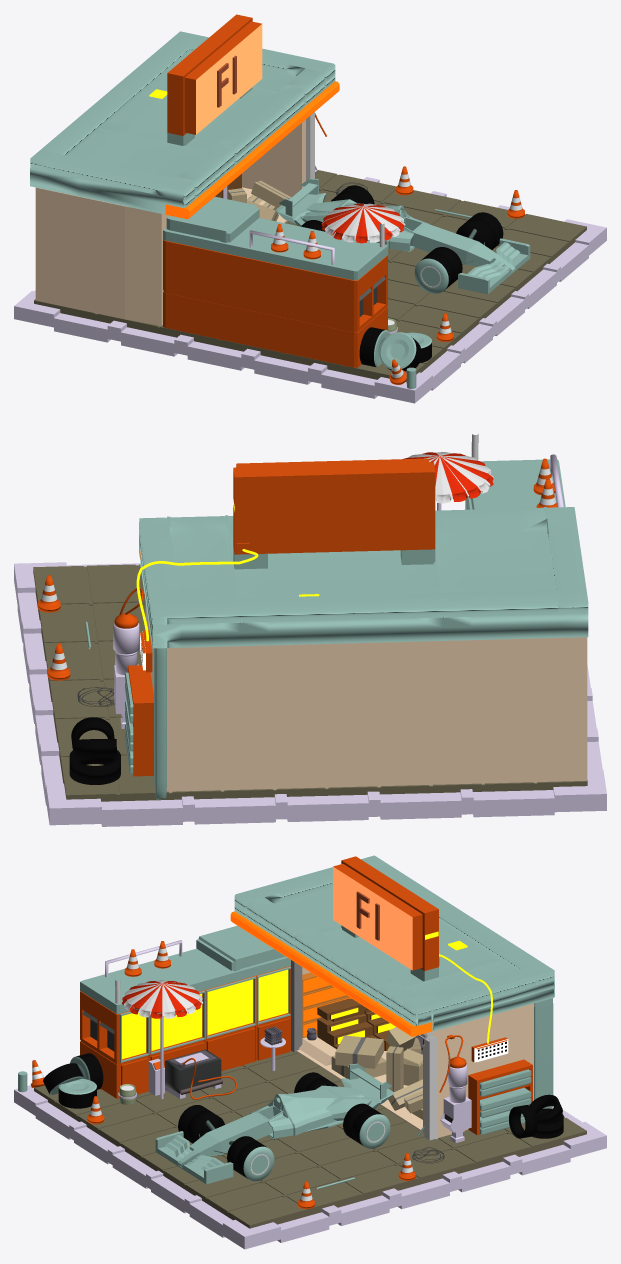
The picture shows the model from 3 angles, top to bottom: view 1: azimuth 30°, elevation 25°; view 2: azimuth 150°, elevation 25°; view 3: azimuth 270°, elevation 25°; orthographic projection. The views are drawn at different scales.
Parts seen in each view (by area): view 1: Cube.010, Cube.012, Cube.009, Cube.008, Cube.007, Cube.013, Cube.018, Cube.020, Cube, Cube.017, Cube.011, Cylinder (+13 smaller); view 2: Cube.009, Cube.010, Cube.007, Cube.018, Cube.008, Cube.013, Cylinder.031, Cube.029, Cube.081, Plane.001, Plane.003, Cylinder.029 (+6 smaller); view 3: Cube.008, Cube.010, Cube.007, Cube.009, Cube.014, Cube, Cube.013, Cube.012, Cube.065, Cube.020, Cube.018, Cube.016 (+29 smaller).
Boxes of the visible parts, box(x1,y1,x2,y2) form: Cube.010: box(30, 31, 335, 214); Cube.012: box(163, 240, 387, 367); Cube.009: box(35, 119, 305, 326); Cube.008: box(34, 170, 586, 381); Cube.007: box(14, 177, 606, 403); Cube.013: box(163, 218, 387, 280); Cube.018: box(167, 14, 261, 135); Cube.020: box(196, 24, 262, 134); Cube: box(306, 202, 497, 266); Cube.017: box(166, 196, 259, 242); Cube.011: box(165, 81, 339, 219); Cylinder: box(420, 212, 503, 290); Cube.009: box(146, 610, 587, 792); Cube.010: box(139, 507, 588, 648); Cube.007: box(14, 562, 606, 826); Cube.018: box(233, 458, 435, 554); Cube.008: box(33, 564, 587, 801); Cube.013: box(471, 459, 565, 509); Cylinder.031: box(69, 717, 120, 784); Cube.029: box(128, 665, 153, 776); Cube.081: box(154, 648, 166, 799); Plane.001: box(402, 452, 493, 501); Plane.003: box(407, 452, 493, 503); Cylinder.029: box(38, 458, 557, 680); Cube.008: box(34, 1051, 586, 1228); Cube.010: box(234, 855, 554, 1031); Cube.007: box(14, 1085, 606, 1249); Cube.009: box(296, 967, 534, 1138); Cube.014: box(122, 969, 288, 1059); Cube: box(189, 1087, 365, 1156); Cube.013: box(80, 948, 290, 1013); Cube.012: box(80, 966, 290, 1098); Cube.065: box(331, 1027, 422, 1119); Cube.020: box(333, 867, 412, 970); Cube.018: box(333, 856, 439, 970); Cube.016: box(122, 1019, 290, 1094).
Size of the model in its own units: 29.01 by 11.87 by 29.24.
